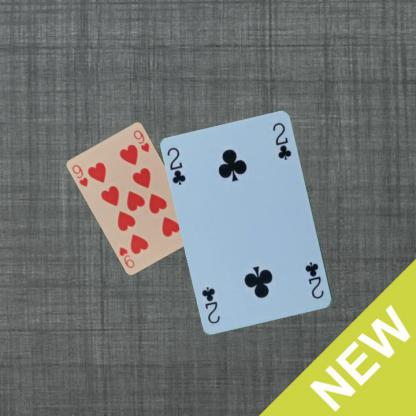2c: (165, 145, 187, 187), (303, 260, 325, 300)
9h: (70, 162, 89, 188)
